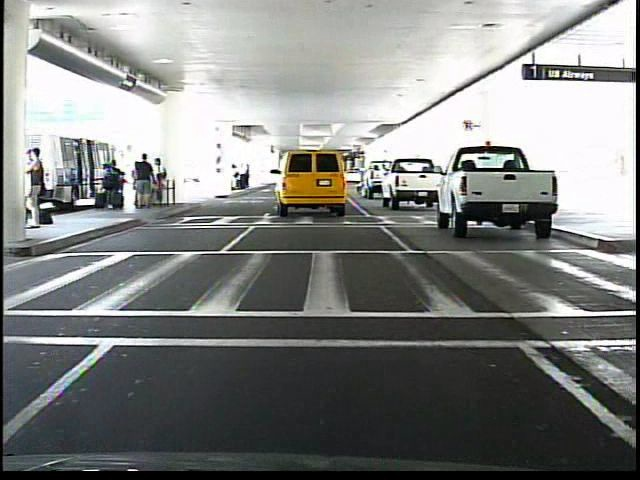person: (30, 146, 50, 231)
